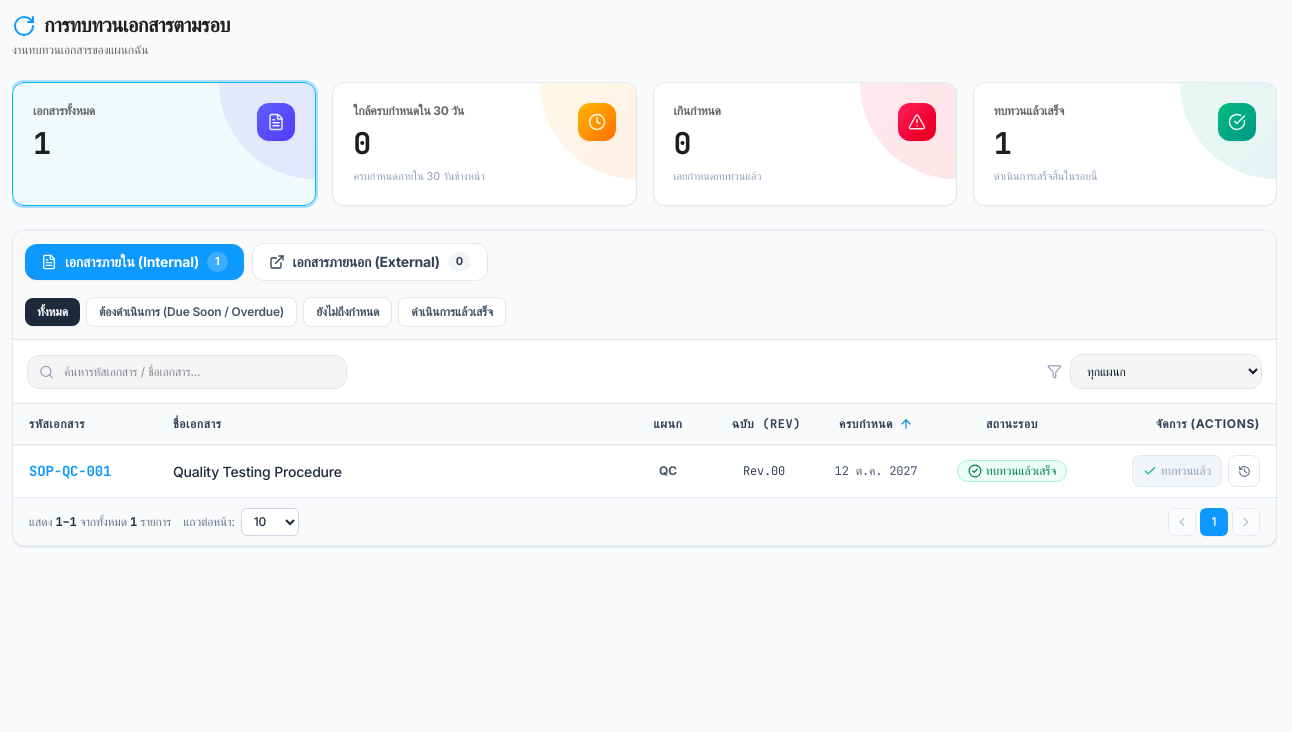
Test case: Periodic Review Metrics & MECE Calculation Logic › PeriodicReviewDashboard UI Integration tests › Post-Approval Sync: increments "ทบทวนแล้วเสร็จ" metric, displays completed badge, and locks action button
The image size is (1292, 732).
expect the 2nd heading "1" is shown: met, box [994,122,1011,162]
expect the text "ทบทวนแล้วเสร็จ" in the row of "SOP-QC-001" is shown: met, box [986,463,1056,478]
Criteria 2: Clicking tab "ดำเนินการแล้วเสร็จ" shows this document
Click the button "ดำเนินการแล้วเสร็จ".
click(452, 312)  # box [398,297,506,327]
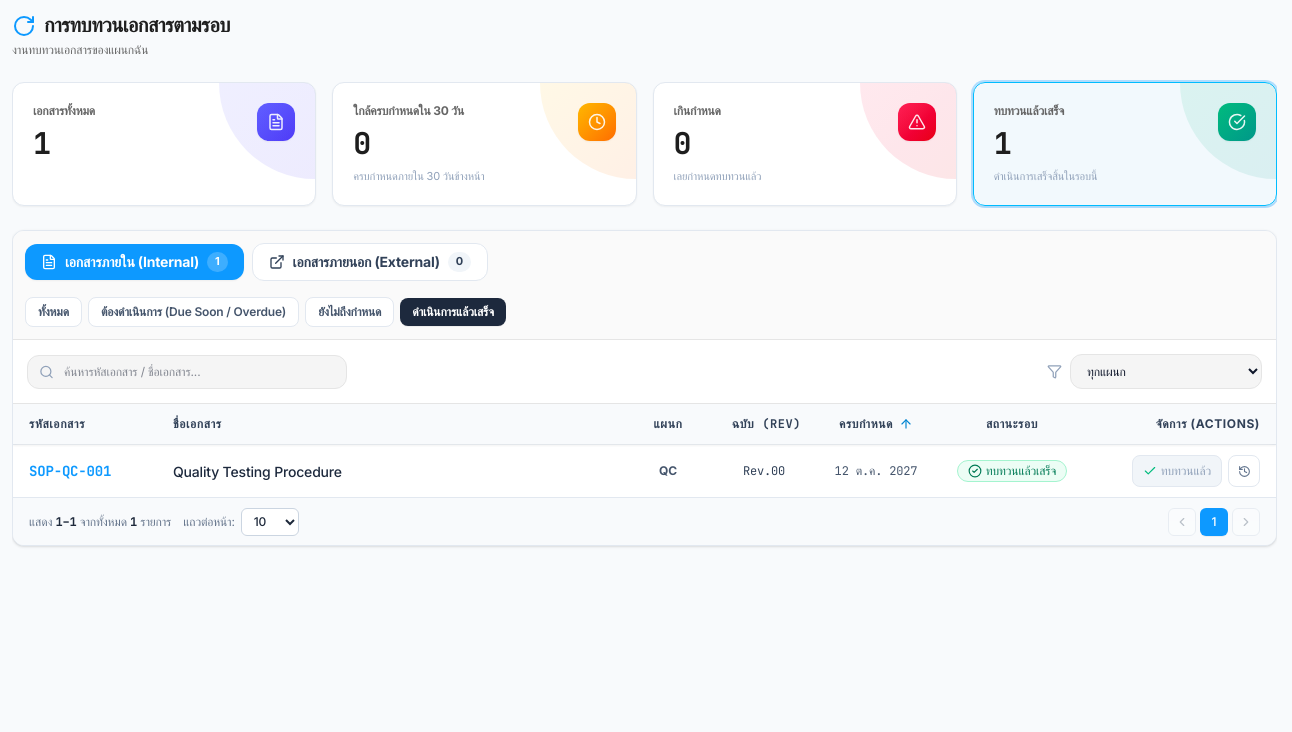
expect the text "SOP-QC-001" is shown: met, box [13,445,157,497]
Document is excluded from "ยังไม่ถึงกำหนด" tab
Click the button "ยังไม่ถึงกำหนด".
click(350, 312)  # box [305,297,394,327]
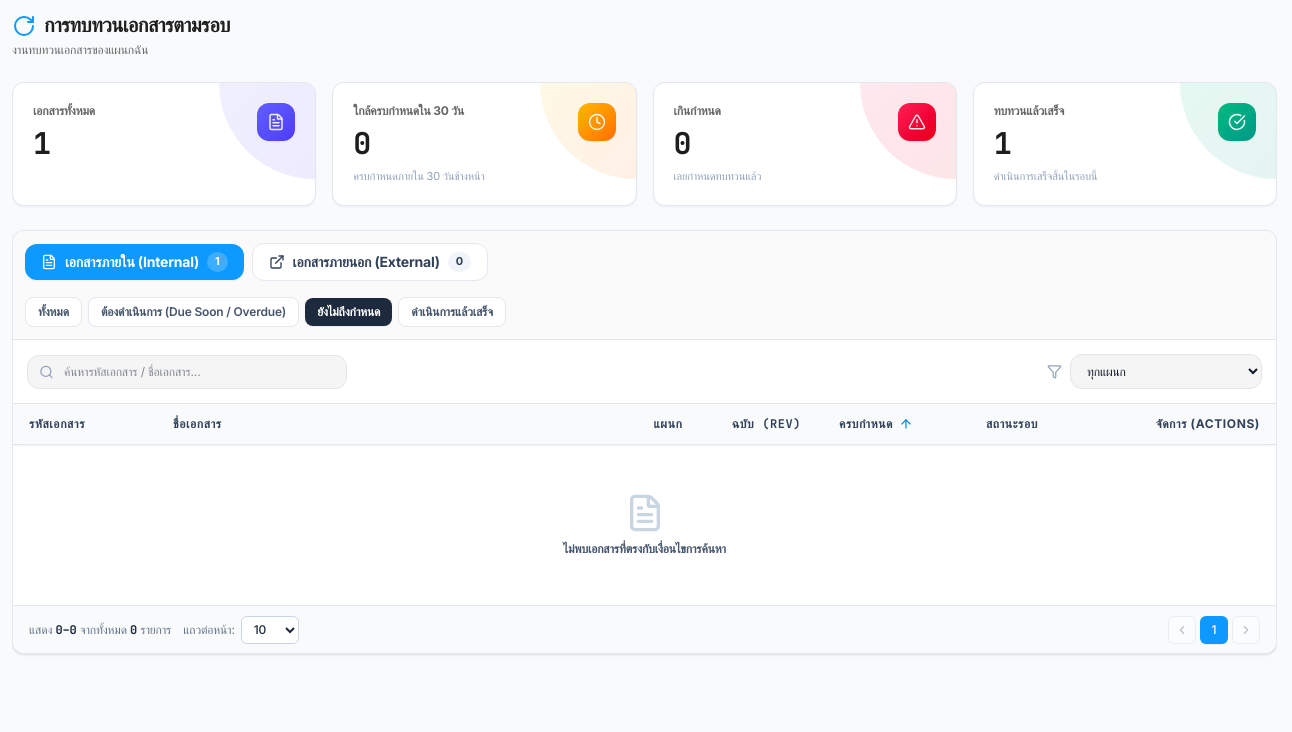
expect the text "SOP-QC-001" is gone: met
